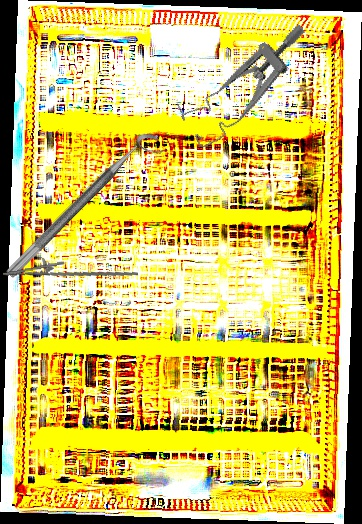Fixation Ring: (4, 126, 170, 291)
Needle Holder: (1, 245, 139, 293)
Speculum: (169, 22, 330, 151)
